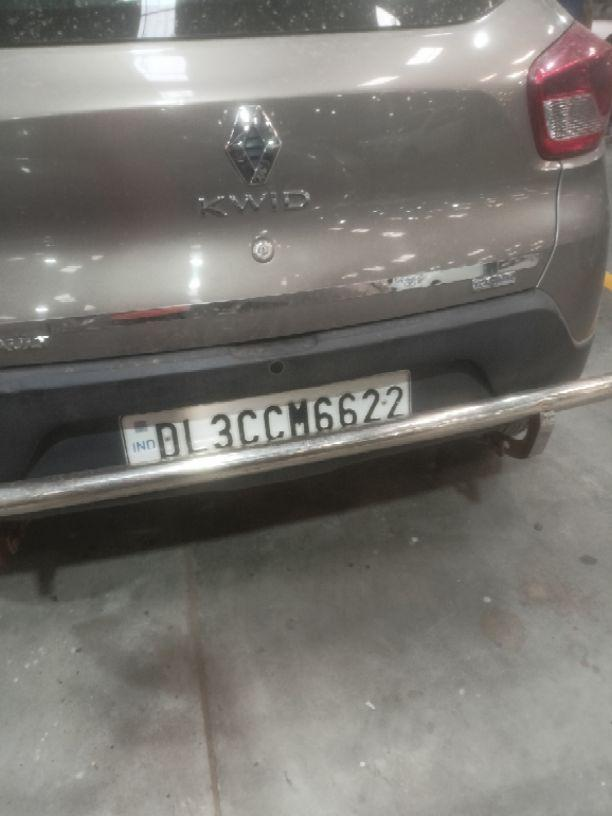license_plate: (117, 367, 413, 468)
